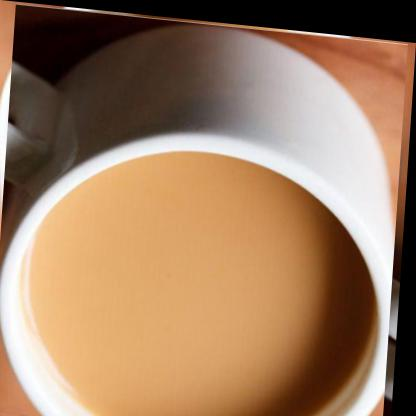milk_based_beverage: (0, 3, 410, 415)
